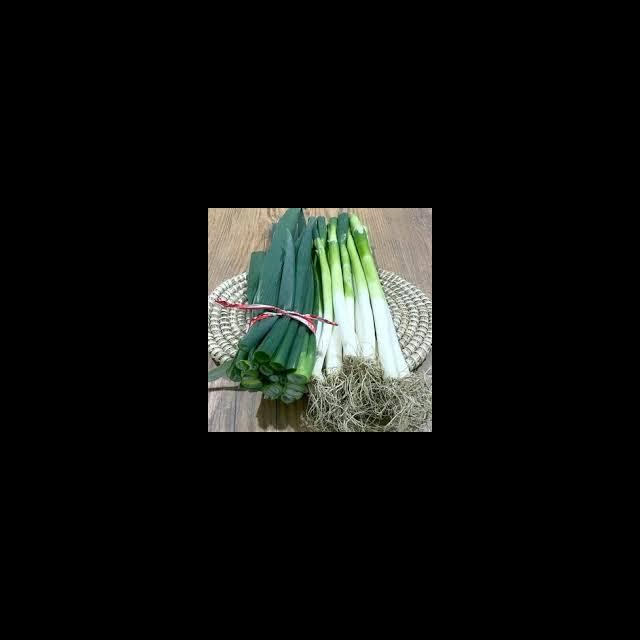green_onion: (313, 213, 411, 379)
